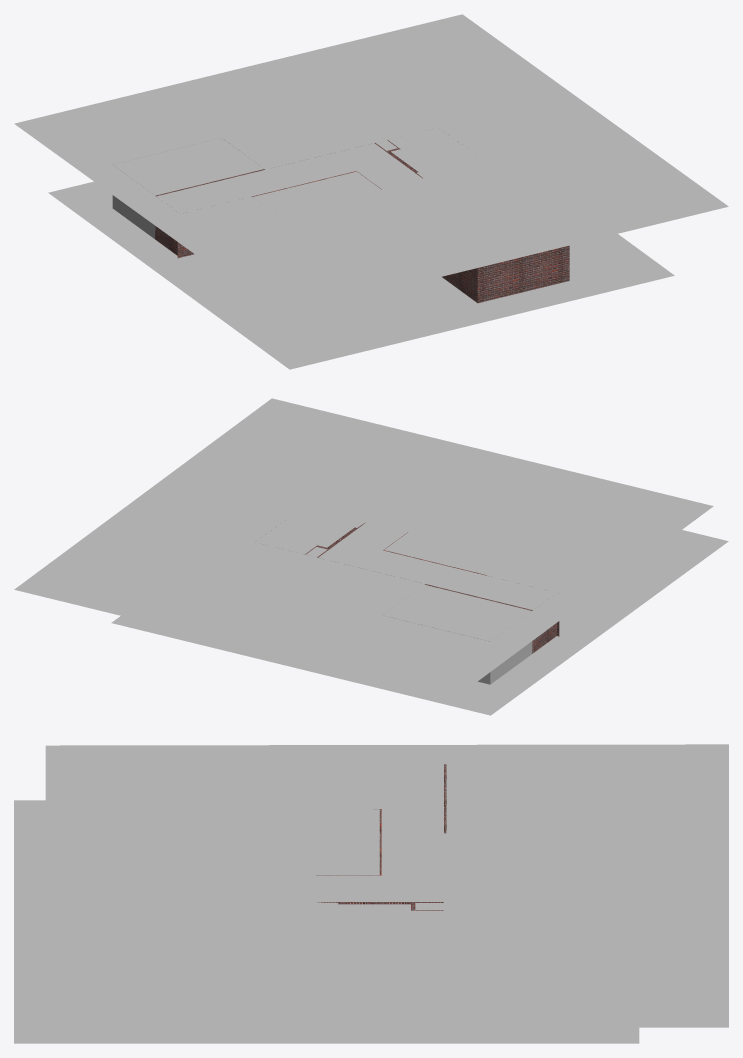
The model's file is Pasillo (1).fbx.
3 views of the same model, one above another, from view 1: azimuth 30°, elevation 25°; view 2: azimuth 150°, elevation 25°; view 3: azimuth 270°, elevation 25° (orthographic). The views are drawn at different scales.
Parts seen in each view (by area): view 1: Pasillo; view 2: Pasillo; view 3: Pasillo.
Part boxes in pixels (x1,y1,x2,y2): Pasillo: [14, 14, 728, 369]; Pasillo: [14, 398, 728, 715]; Pasillo: [14, 744, 728, 1043].
Bounding box in the file's own units: 56826 × 5277 × 60247.
6 materials, 1 textured.
